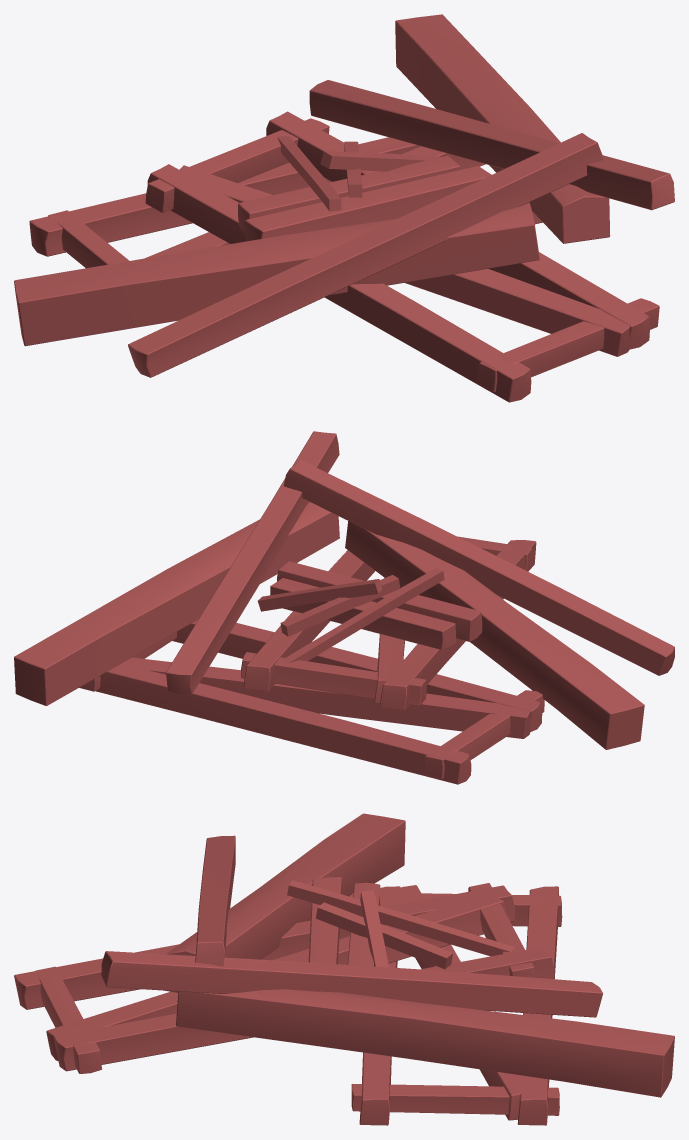
File: Beams_Pile_03_Lod0.fbx
3 renders of one model, top to bottom at view 1: azimuth 30°, elevation 25°; view 2: azimuth 150°, elevation 25°; view 3: azimuth 270°, elevation 25°, orthographic. The views are drawn at different scales.
Visible parts, largest first — view 1: Beams_Pile_03_Lod0; view 2: Beams_Pile_03_Lod0; view 3: Beams_Pile_03_Lod0.
Boxes of the visible parts, left/top/right/bottom form: Beams_Pile_03_Lod0: left=14, top=14, right=674, bottom=402; Beams_Pile_03_Lod0: left=14, top=431, right=674, bottom=784; Beams_Pile_03_Lod0: left=14, top=813, right=674, bottom=1125.
Size of the model in its own units: 402 by 101 by 415.
